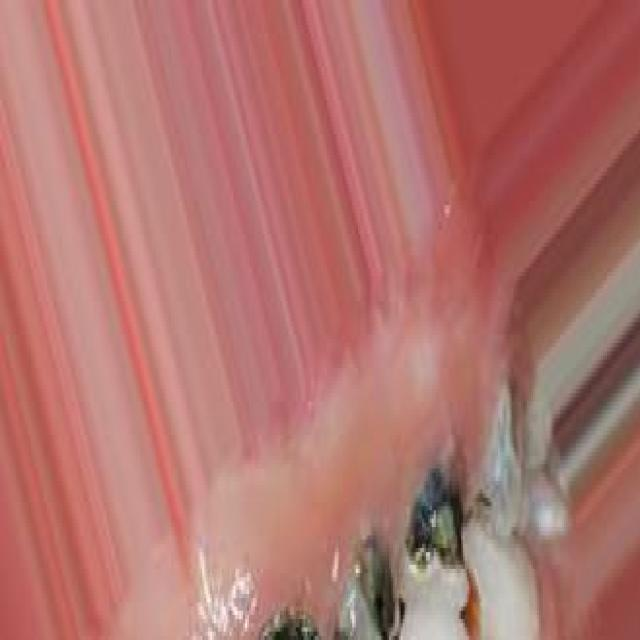caries: (404, 430, 468, 604), (471, 381, 528, 554), (331, 527, 398, 640)
